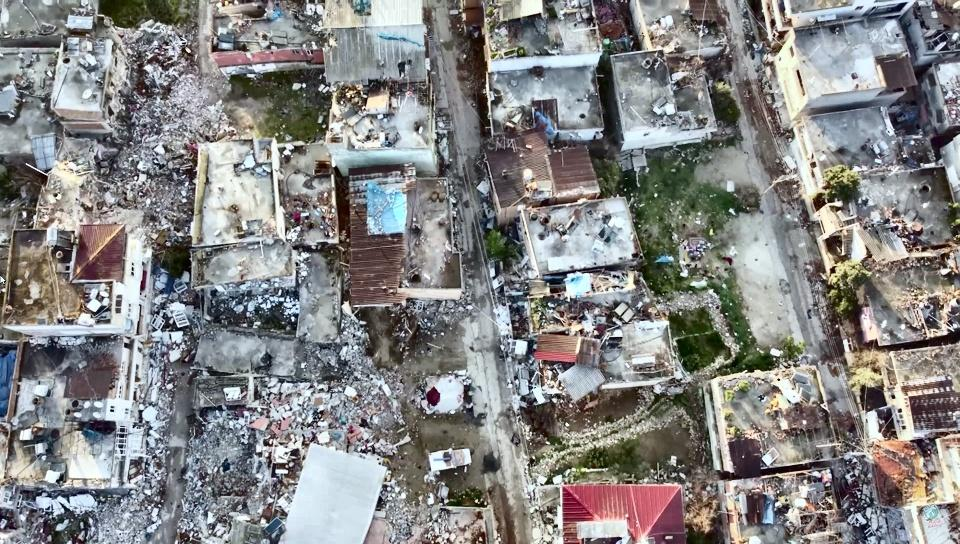kapali: (147, 56, 225, 430)
